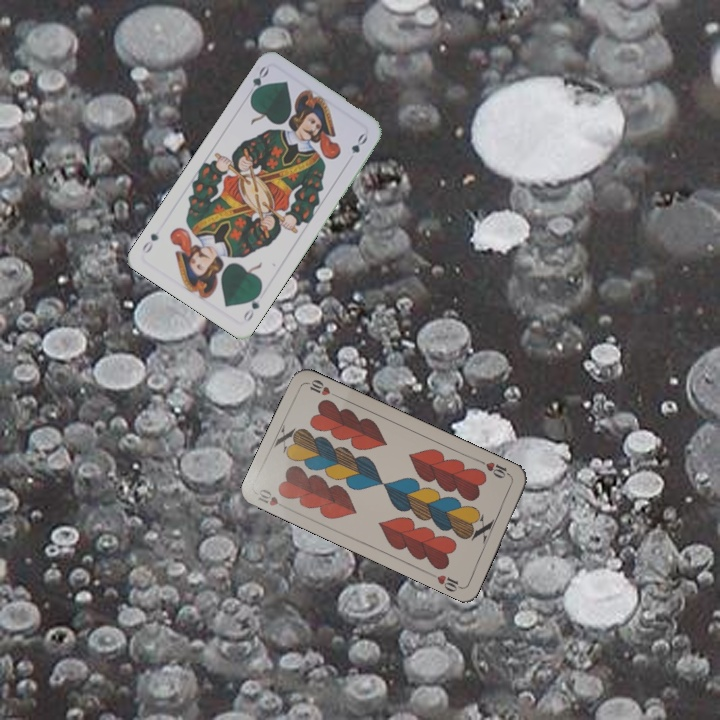GO: (246, 62, 271, 101), (239, 287, 264, 325)
H10: (254, 485, 292, 512), (476, 456, 514, 481)
